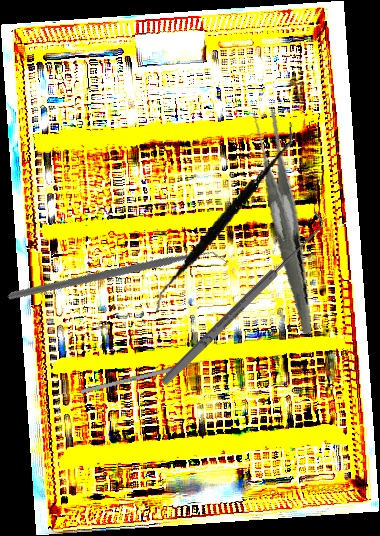Chopper: (7, 169, 228, 389)
Dressing Forceps: (227, 109, 339, 334)
Hook Surgical: (151, 209, 333, 390)
Pusher: (80, 356, 212, 395)
Spatula Surgical: (151, 108, 296, 327)
